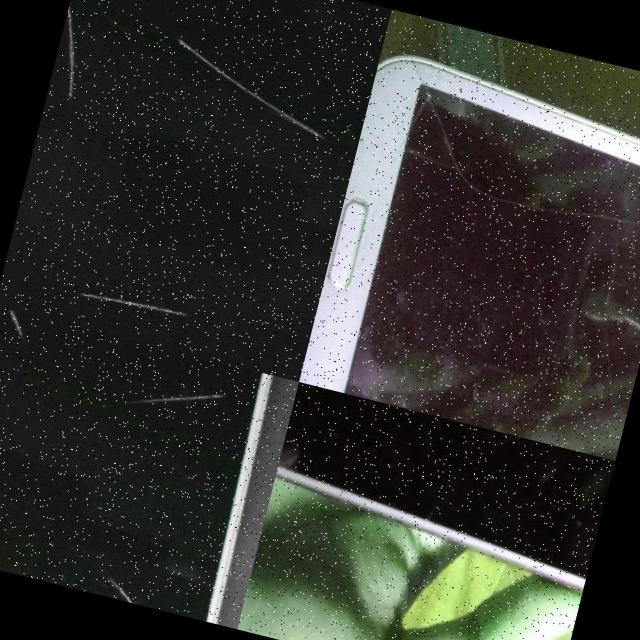scratch: (158, 40, 336, 144), (124, 368, 226, 432), (69, 282, 183, 329), (46, 0, 98, 102), (101, 576, 192, 616), (0, 305, 30, 347)
screen crack: (358, 43, 536, 228)
